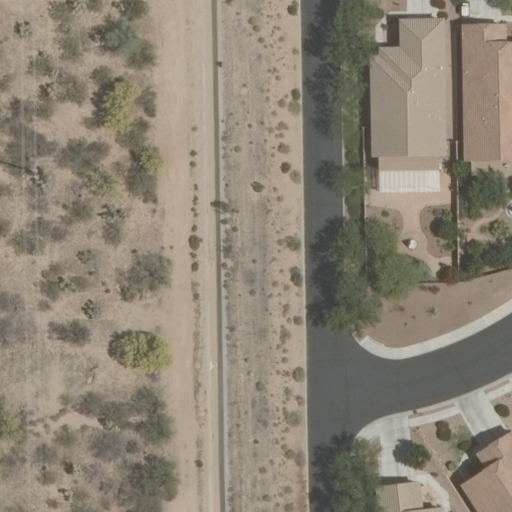DT: (17, 154, 54, 197)
